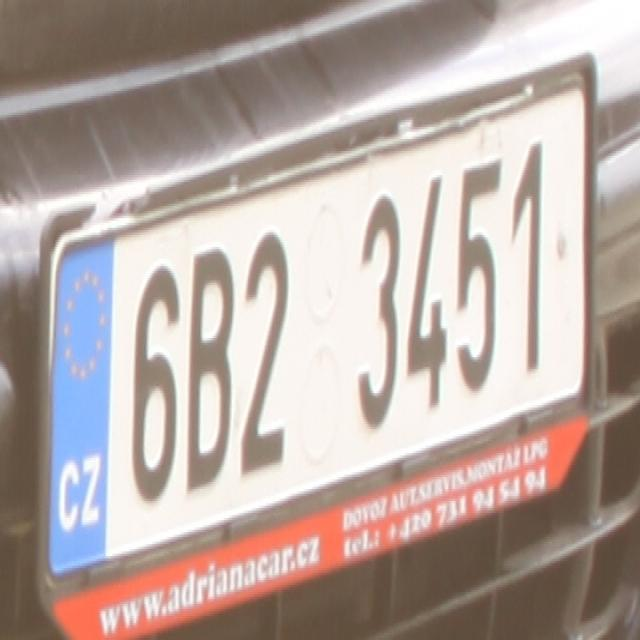1: (512, 136, 542, 376)
2: (242, 230, 287, 472)
3: (356, 192, 398, 432)
4: (402, 168, 448, 410)
5: (456, 154, 501, 388)
6: (129, 262, 178, 504)
B: (184, 247, 234, 494)
